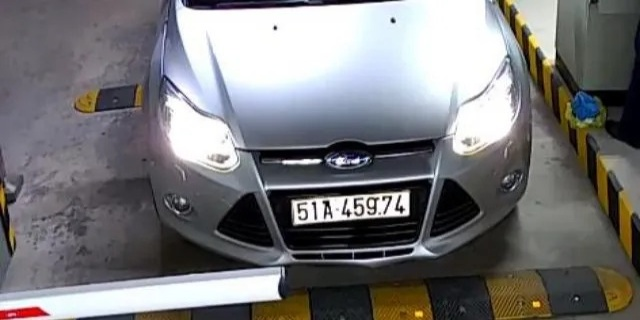bien_so: (293, 194, 408, 221)
